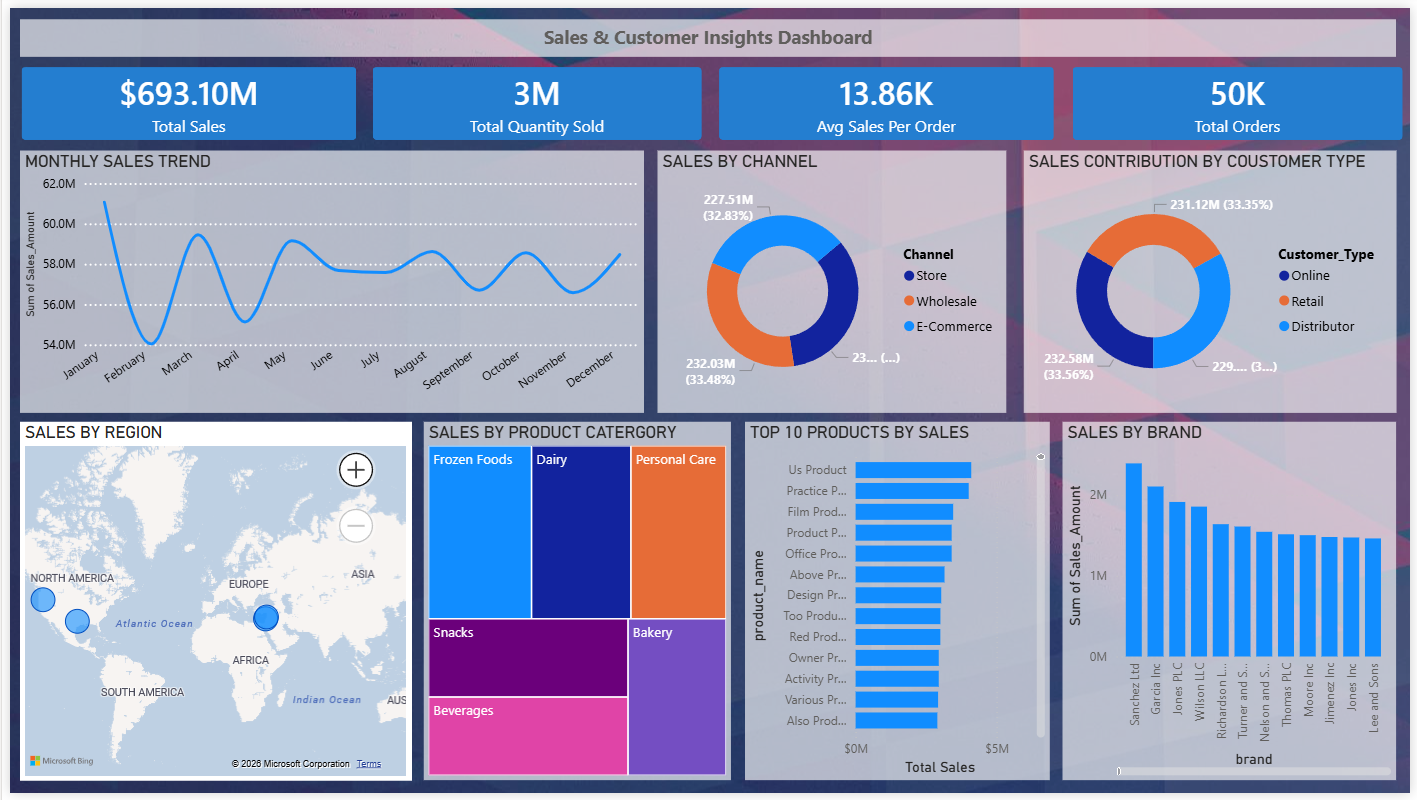

Layout of this report page (visuals, bound fields, positions):
{"tool":"powerbi","page":{"name":"SALES & CUSTOMER ANALYTICS","canvas":[1400,785],"ordinal":3},"visuals":[{"type":"textbox","box":[10,0,1390,36.2],"z":0},{"type":"cardVisual","fields":{"Data":["Sales.Total Sales"]},"box":[1.2,28.8,352.5,88.8],"z":1000},{"type":"cardVisual","fields":{"Data":["Sales.Total Quantity Sold"]},"box":[353.8,28.8,346.2,88.8],"z":2000},{"type":"cardVisual","fields":{"Data":["Sales.Avg Sales Per Order"]},"box":[700,28.8,352.5,88.8],"z":3000},{"type":"cardVisual","fields":{"Data":["Sales.Total Orders"]},"box":[1052.5,28.8,347.5,88.8],"z":4000},{"type":"lineChart","title":"MONTHLY SALES TREND","fields":{"Category":["Sales.Date.Variation.Date Hierarchy.Month","Sales.Date.Variation.Date Hierarchy.Day"],"Y":["Sum(Sales.Sales_Amount)"]},"box":[10,117.5,623.8,275],"z":5000},{"type":"donutChart","title":"SALES BY CHANNEL","fields":{"Category":["Sales.Channel"],"Y":["Sum(Sales.Sales_Amount)"]},"box":[633.8,117.5,348.8,275],"z":6000},{"type":"map","title":"SALES BY REGION","fields":{"Category":["Sales.Region"],"Size":["Sum(Sales.Sales_Amount)"]},"box":[10,392.5,391.2,392.5],"z":7000},{"type":"clusteredBarChart","title":"TOP 10 PRODUCTS BY SALES","fields":{"Y":["Sales.Total Sales"],"Category":["Products.product_name"]},"box":[735,392.5,317.5,392.5],"z":8000},{"type":"donutChart","title":"SALES CONTRIBUTION BY COUSTOMER TYPE ","fields":{"Category":["Sales.Customer_Type"],"Y":["Sum(Sales.Sales_Amount)"]},"box":[1013.8,117.5,372.5,275],"z":9000},{"type":"treemap","title":"SALES BY PRODUCT CATERGORY","fields":{"Values":["Sum(Sales.Sales_Amount)"],"Group":["Products.category"]},"box":[401.2,392.5,332.5,392.5],"z":10000},{"type":"clusteredColumnChart","title":"SALES BY BRAND","fields":{"Category":["Products.brand"],"Y":["Sum(Sales.Sales_Amount)"]},"box":[1052.5,392.5,347.5,392.5],"z":11000}]}

Visuals, with their boxes in screenshot pixels (x1, y1, x2, y2), scaled from the page's 1400x785 canvas onto the 1417x800 screenshot:
textbox: rect(10, 0, 1416, 37)
cardVisual - Sales.Total Sales: rect(1, 29, 358, 120)
cardVisual - Sales.Total Quantity Sold: rect(358, 29, 709, 120)
cardVisual - Sales.Avg Sales Per Order: rect(709, 29, 1065, 120)
cardVisual - Sales.Total Orders: rect(1065, 29, 1416, 120)
"MONTHLY SALES TREND" lineChart: rect(10, 120, 641, 400)
"SALES BY CHANNEL" donutChart: rect(641, 120, 995, 400)
"SALES BY REGION" map: rect(10, 400, 406, 799)
"TOP 10 PRODUCTS BY SALES" clusteredBarChart: rect(744, 400, 1065, 799)
"SALES CONTRIBUTION BY COUSTOMER TYPE " donutChart: rect(1026, 120, 1403, 400)
"SALES BY PRODUCT CATERGORY" treemap: rect(406, 400, 743, 799)
"SALES BY BRAND" clusteredColumnChart: rect(1065, 400, 1416, 799)
